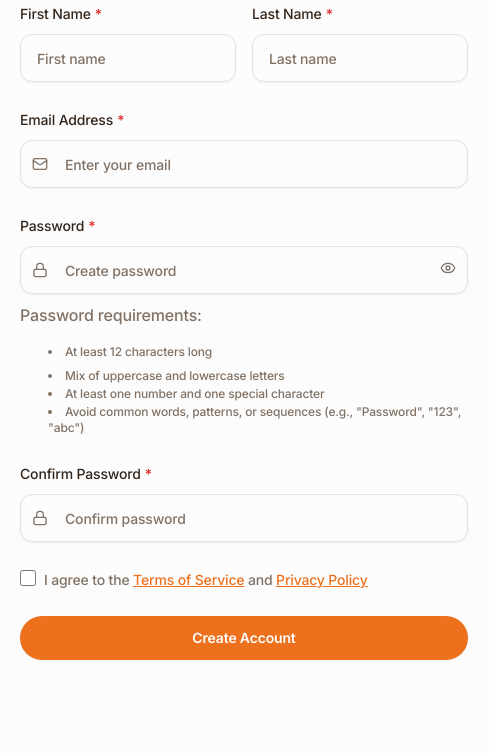
Test case: RegistrationForm › shows password strength indicator
// Test password that scores 15% (Weak)
Step 1. Type "weak123" into the password field with test id "password-input" → (244, 270), box [20,246,468,294]
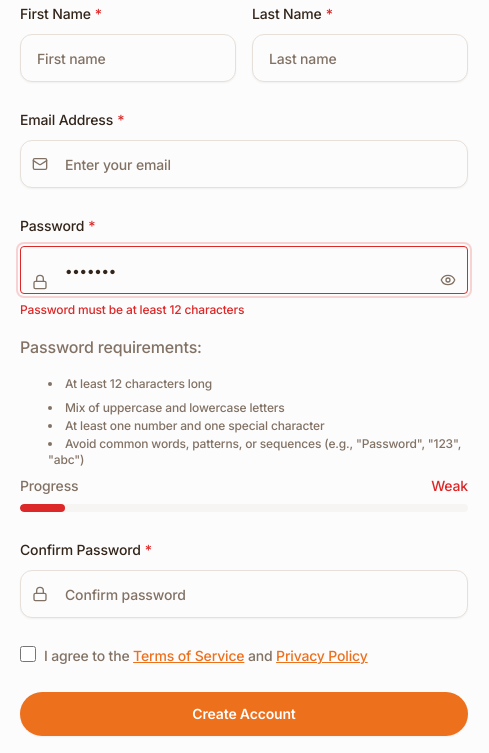
Result: the text with test id "strength-text" reads "Weak" at [431,477,468,494]
// Test strong password - avoid common words like "password"
Step 2. Type "MySecureP@ssword123!" into the password field with test id "password-input" → (244, 270), box [20,246,468,294]
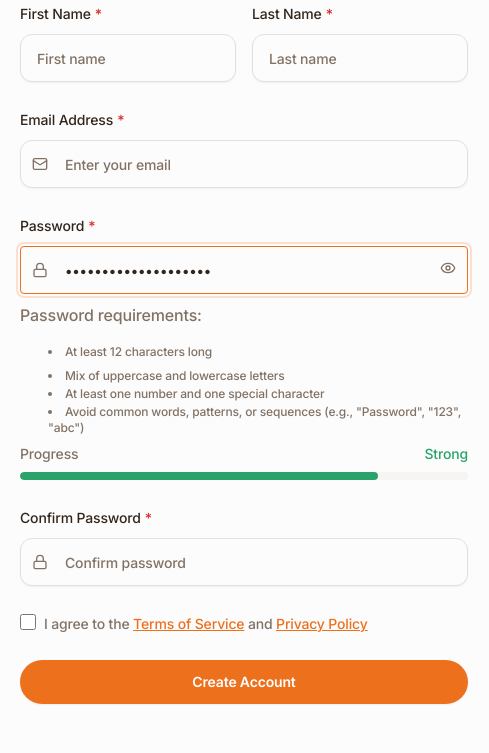
Result: the text with test id "strength-text" reads "Strong" at [424,445,468,462]
